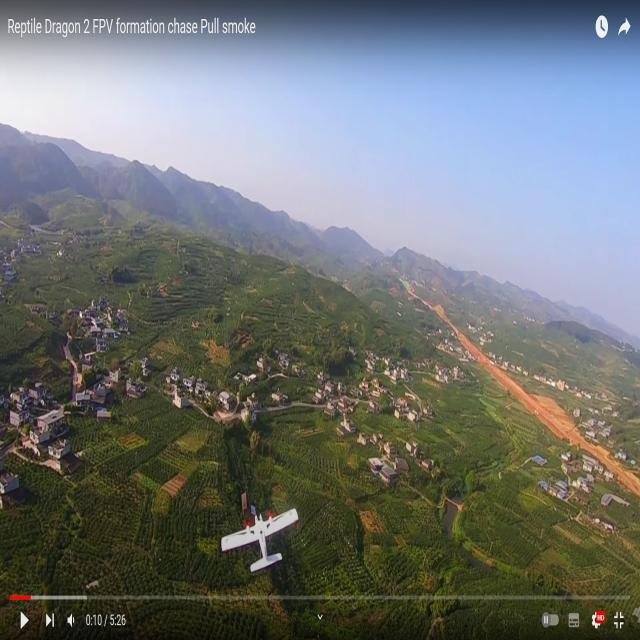iha: (260, 530, 264, 546)
